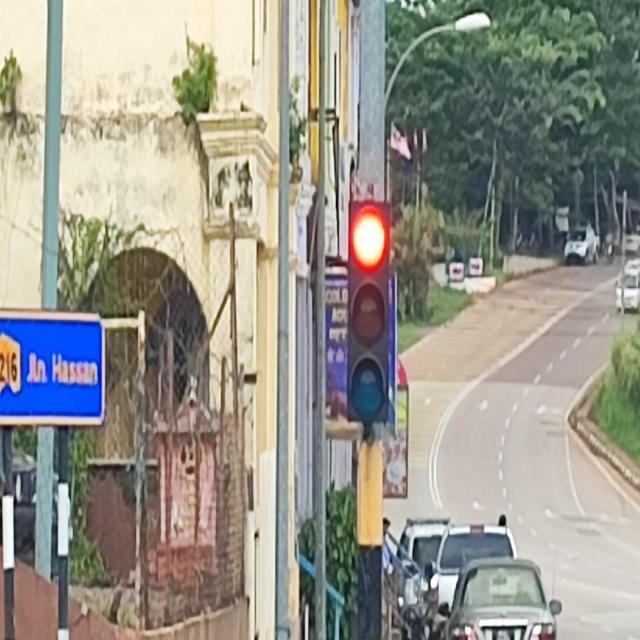car: (439, 557, 563, 640), (563, 223, 600, 266), (615, 258, 640, 315)
traffic light: (347, 200, 392, 427)
